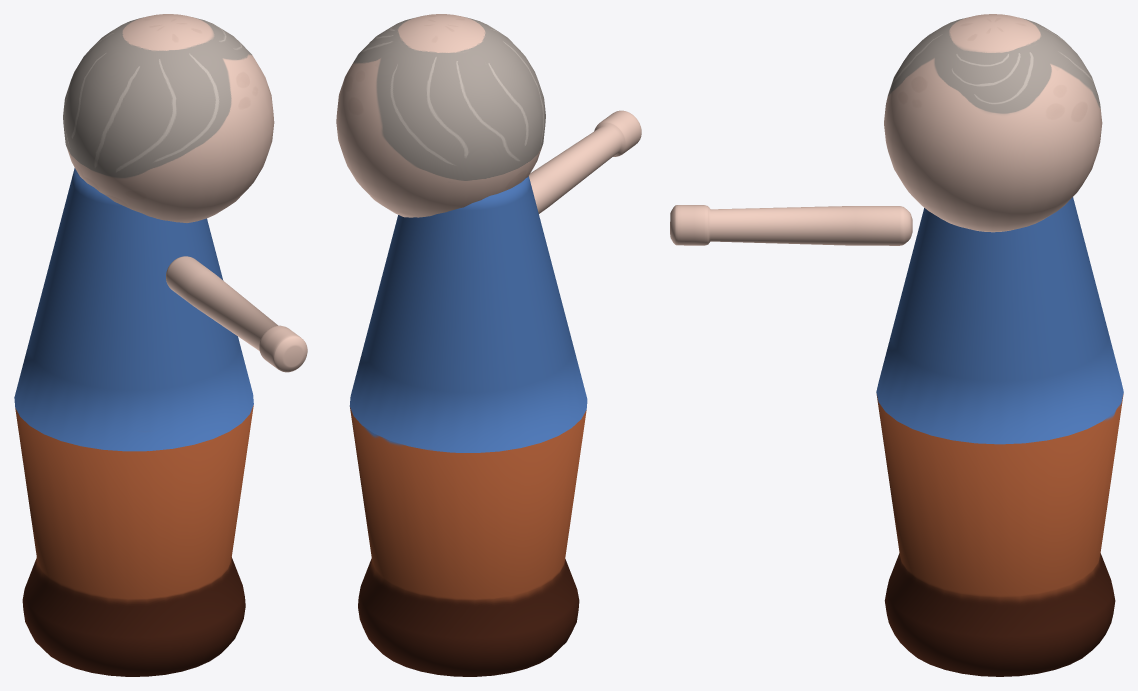
File: old_man_v1.glb
The picture shows the model from 3 angles, left to right: view 1: azimuth 30°, elevation 25°; view 2: azimuth 150°, elevation 25°; view 3: azimuth 270°, elevation 25°; orthographic projection. The views are drawn at different scales.
Visible parts, largest first — view 1: Body, Head, Arm; view 2: Body, Head, Arm; view 3: Body, Head, Arm.
Boxes of the visible parts, x1,y1,x2,y2 form: Body: [14, 168, 253, 676]; Head: [63, 14, 274, 222]; Arm: [166, 256, 307, 372]; Body: [349, 176, 587, 676]; Head: [336, 14, 545, 217]; Arm: [529, 110, 641, 213]; Body: [876, 197, 1123, 676]; Head: [884, 14, 1102, 232]; Arm: [670, 205, 912, 245].
Size of the model in its own units: 0.7702 by 1.97 by 1.29.
Materials: 3 (3 with a texture image).
